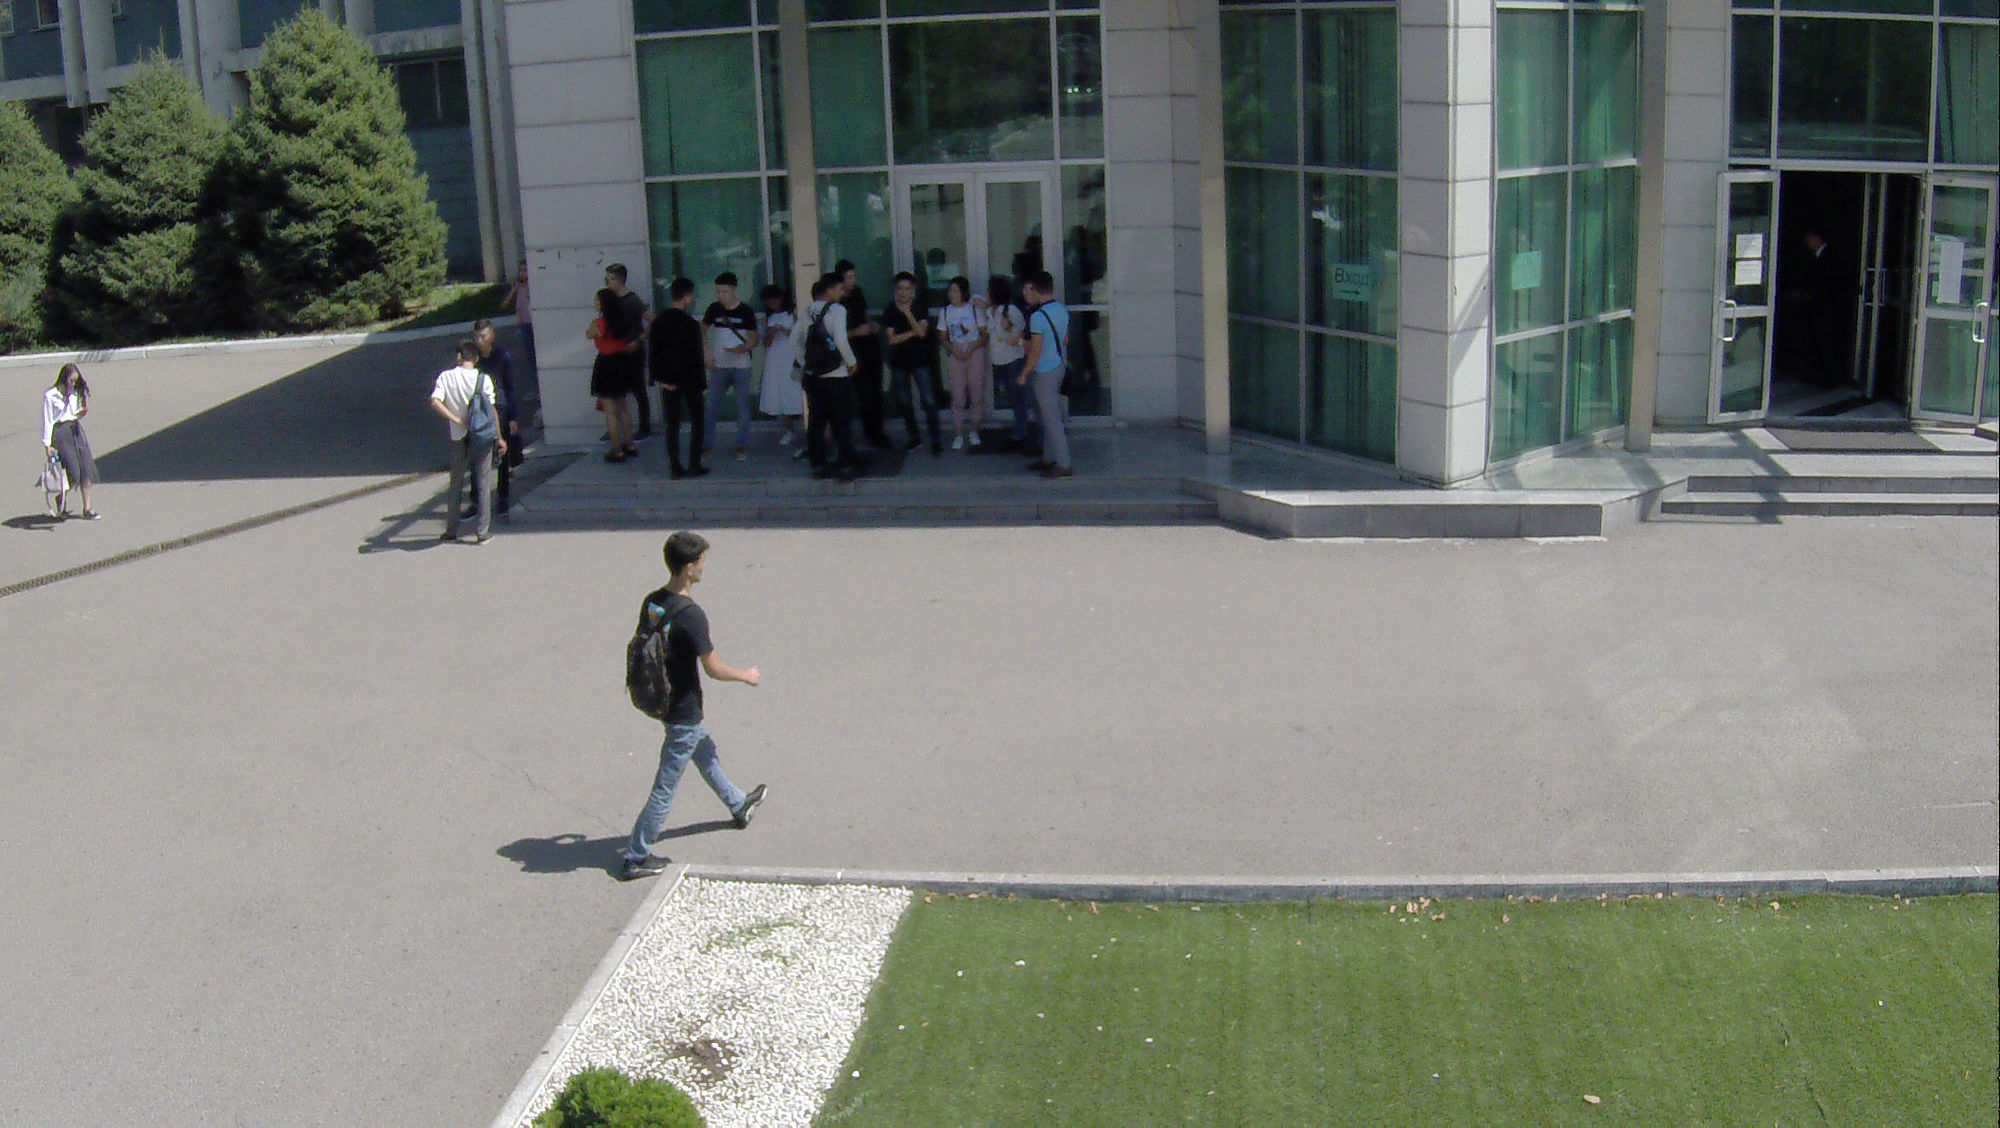person: (612, 516, 787, 910), (432, 342, 516, 555), (640, 266, 717, 481), (24, 355, 103, 530), (1017, 269, 1080, 484), (811, 272, 873, 486), (874, 268, 947, 453), (753, 280, 821, 459), (702, 268, 763, 469), (575, 290, 642, 460), (978, 269, 1038, 454), (604, 250, 661, 442), (938, 273, 993, 457), (502, 253, 546, 410), (472, 309, 509, 379)
